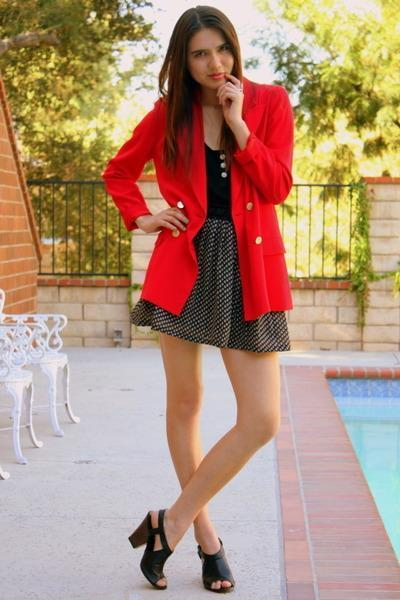dress: (132, 119, 290, 356)
jacket: (102, 84, 307, 319)
shoe: (128, 516, 234, 593)
